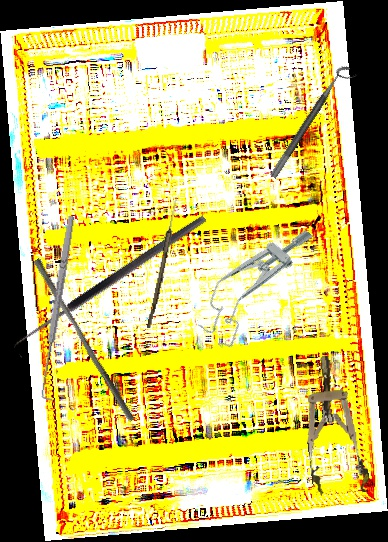Fixation Ring: (268, 62, 359, 186)
Hook Surgical: (10, 213, 214, 360), (36, 215, 83, 401)
Pusher: (27, 257, 142, 423)
Speculum: (186, 208, 322, 353), (297, 352, 371, 499)
Surgical Spoon: (146, 196, 180, 329)
